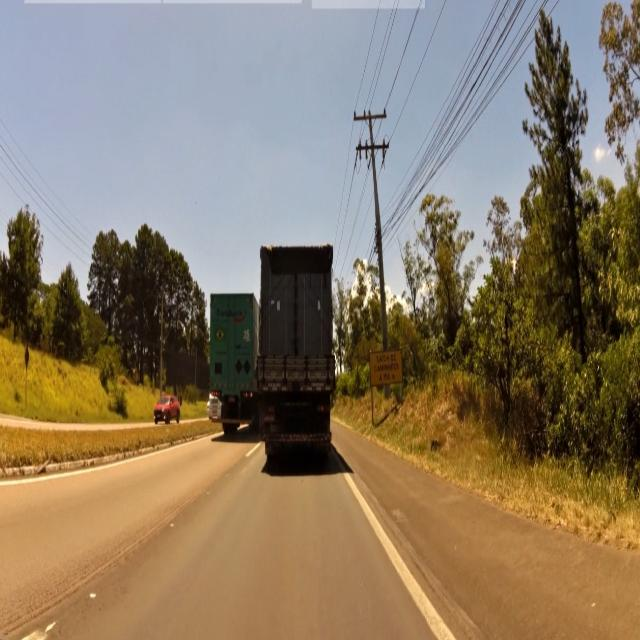ESP-20: (370, 346, 402, 384)
